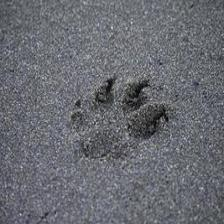dog: (62, 74, 170, 163)
